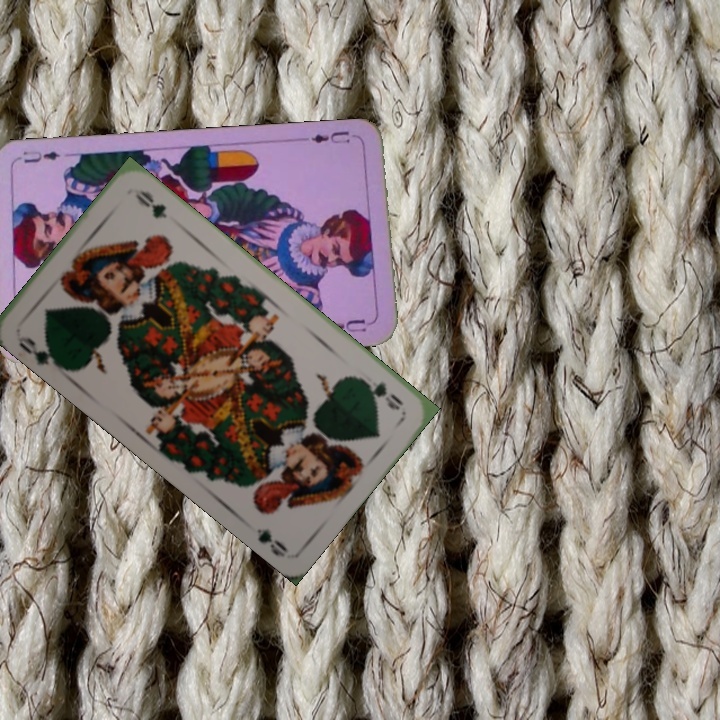EU: (307, 127, 353, 147)
GO: (13, 332, 65, 372), (355, 373, 407, 413)
